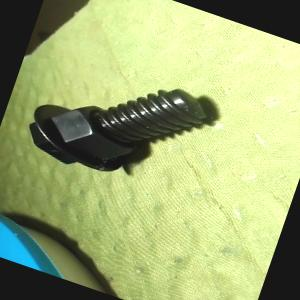parafuso: (19, 44, 219, 204)
